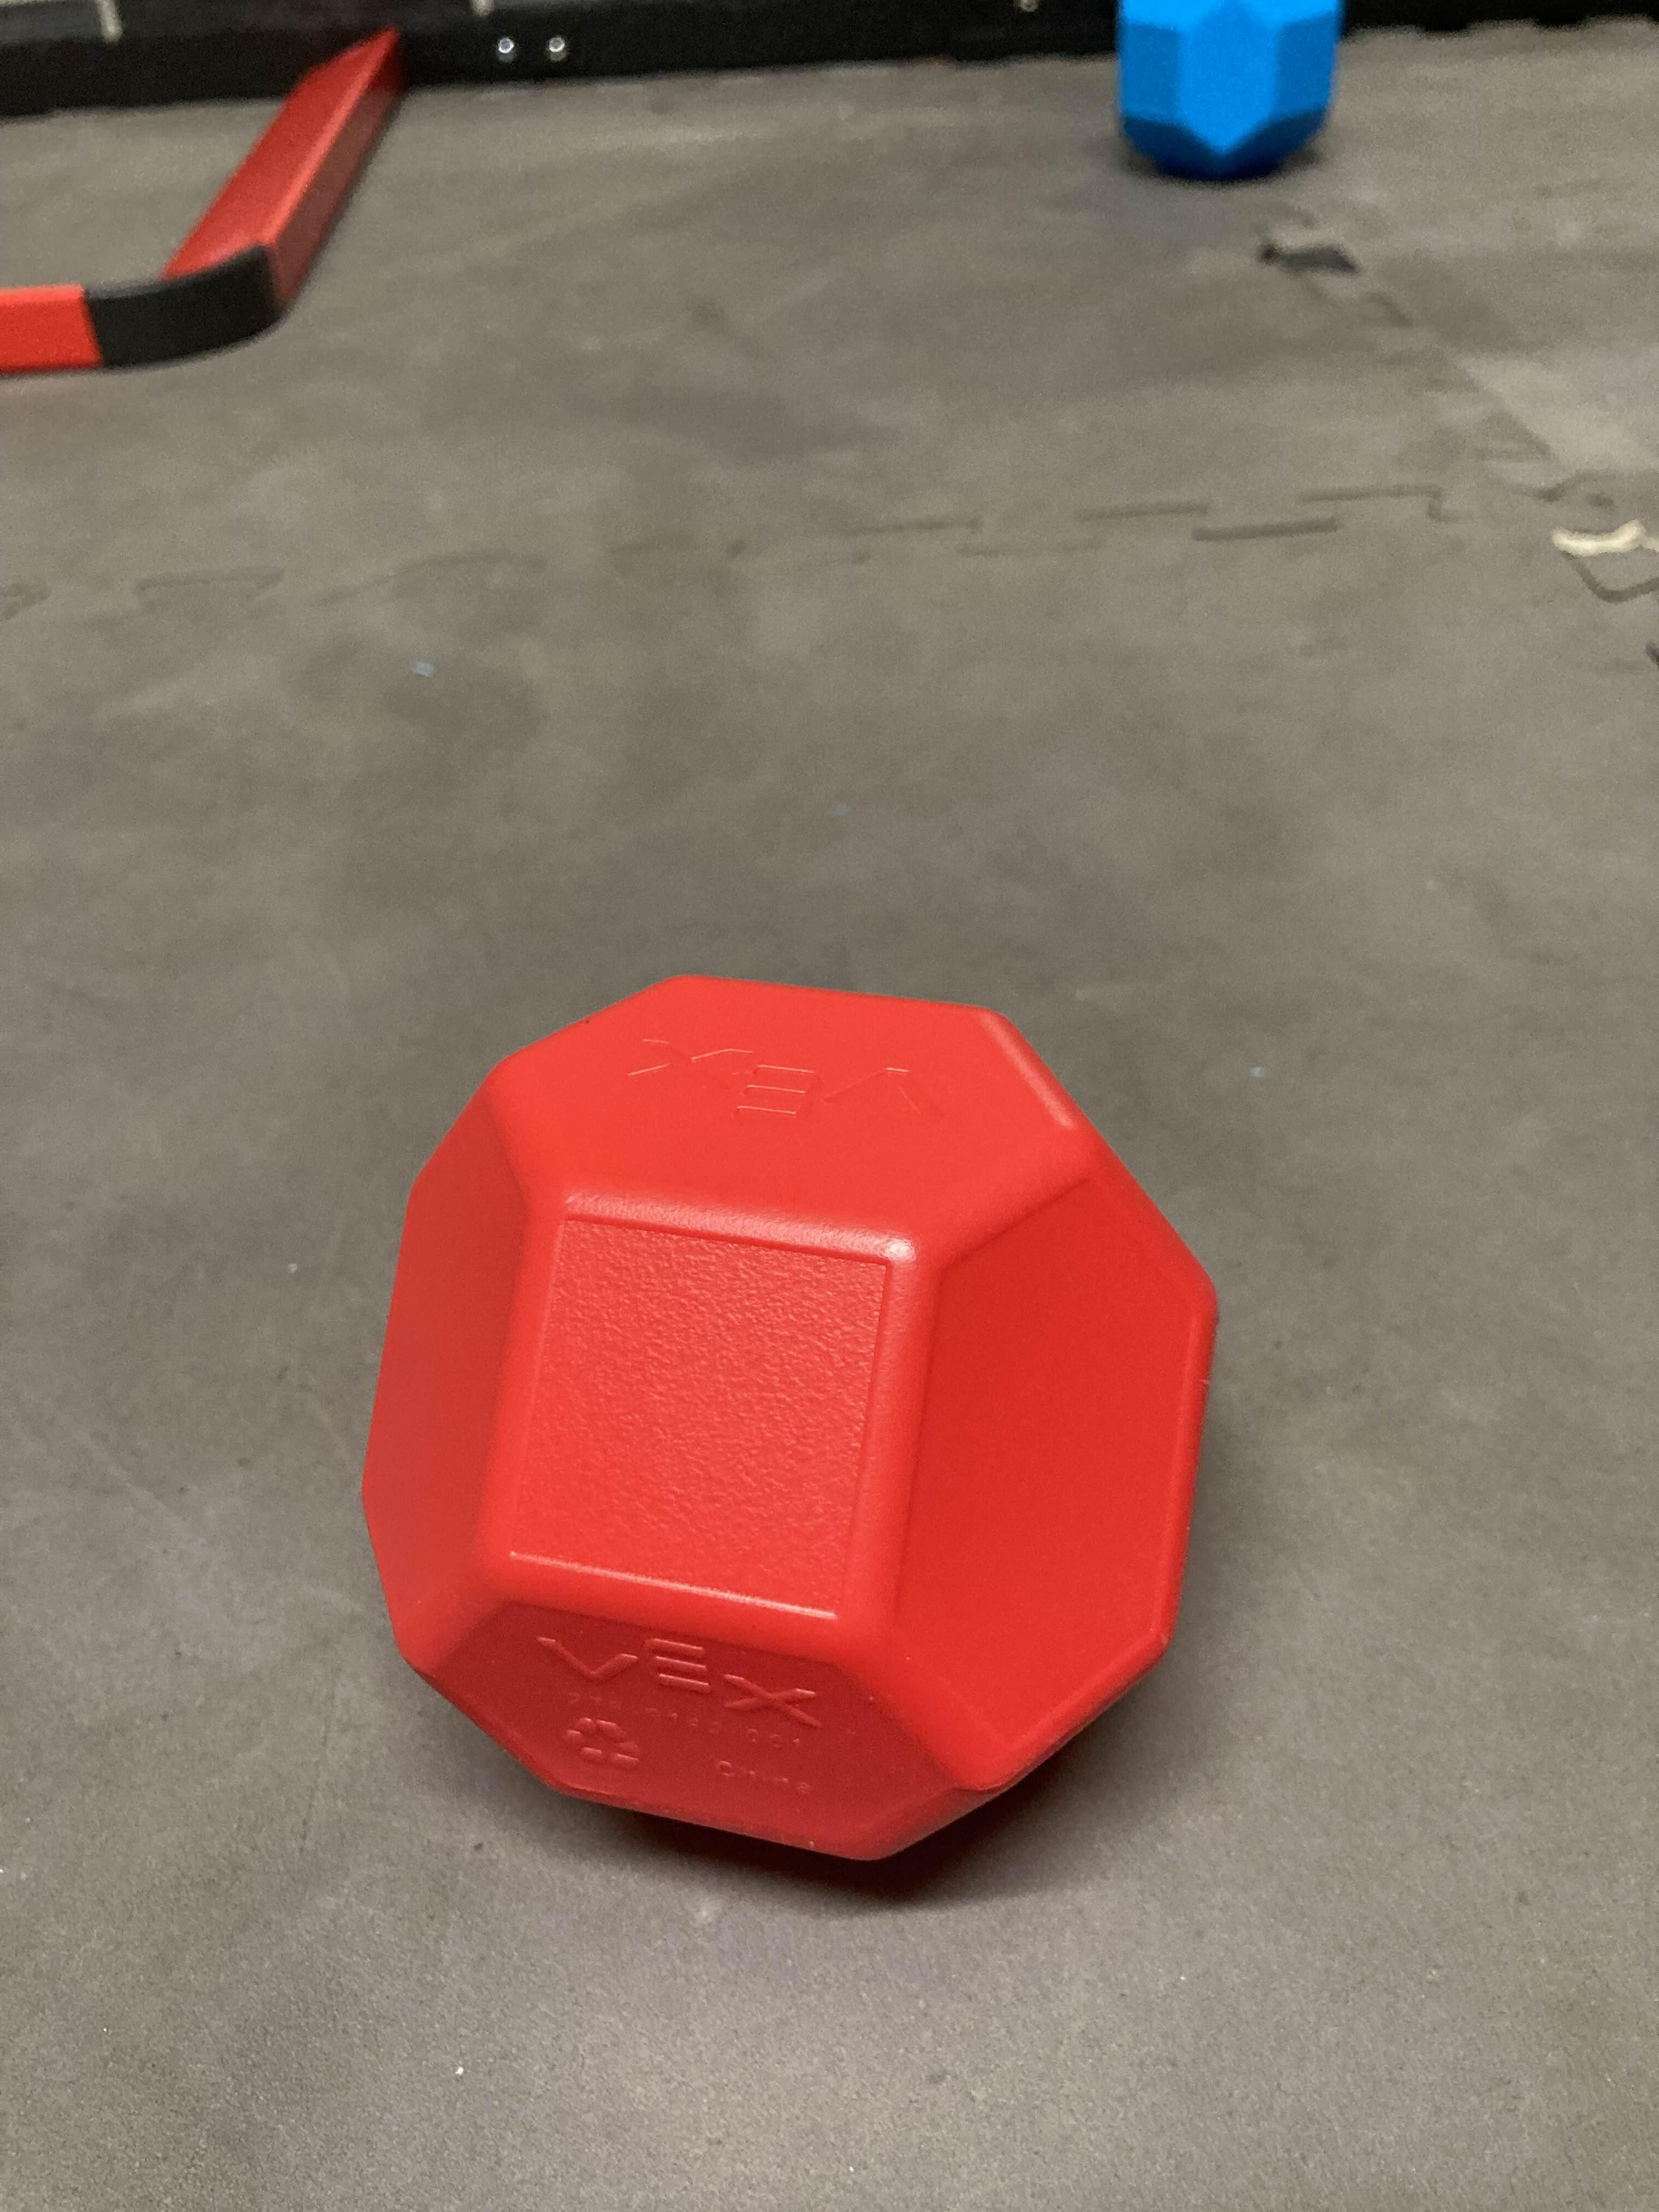Vex-Pieces-BLUE: (1117, 0, 1342, 178)
Vex-Pieces-RED: (361, 981, 1220, 1878)
